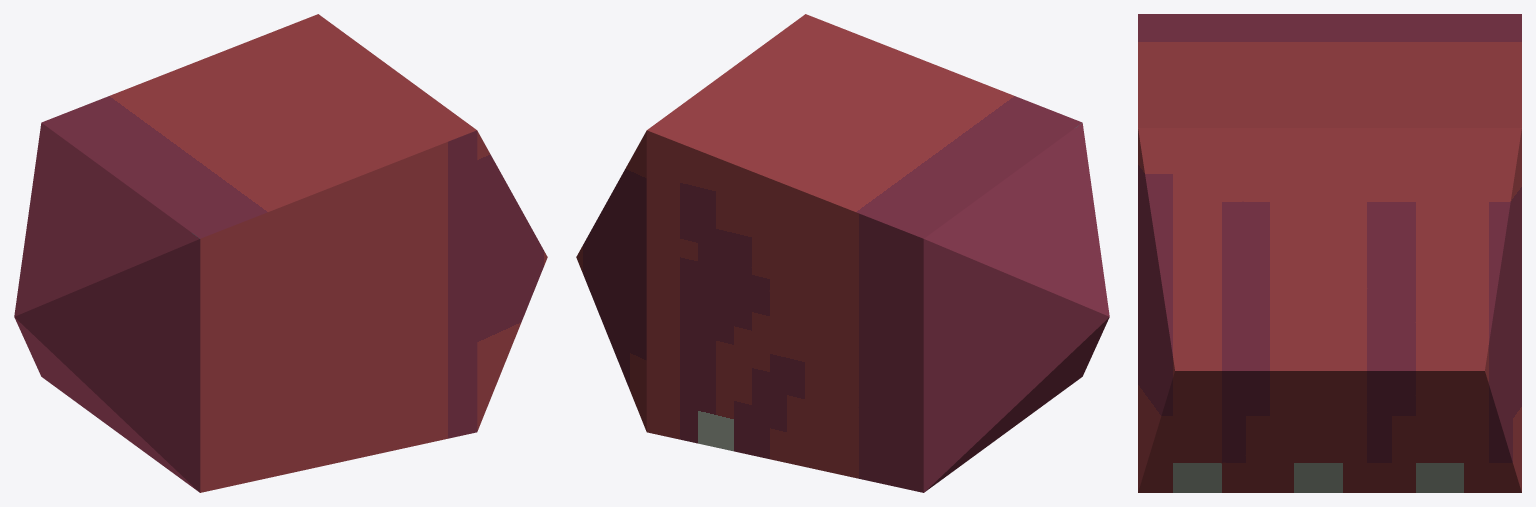
The model's file is rat_fist.glb.
3 renders of one model, left to right at view 1: azimuth 30°, elevation 25°; view 2: azimuth 150°, elevation 25°; view 3: azimuth 270°, elevation 25°, orthographic. The views are drawn at different scales.
Visible parts, largest first — view 1: Cube.132; view 2: Cube.132; view 3: Cube.132.
Part boxes in pixels (<box>): Cube.132: <box>14,14,547,492</box>; Cube.132: <box>576,14,1109,492</box>; Cube.132: <box>1138,14,1521,492</box>.
Size of the model in its own units: 1.1 by 0.6755 by 0.6438.
1 material, 1 textured.
